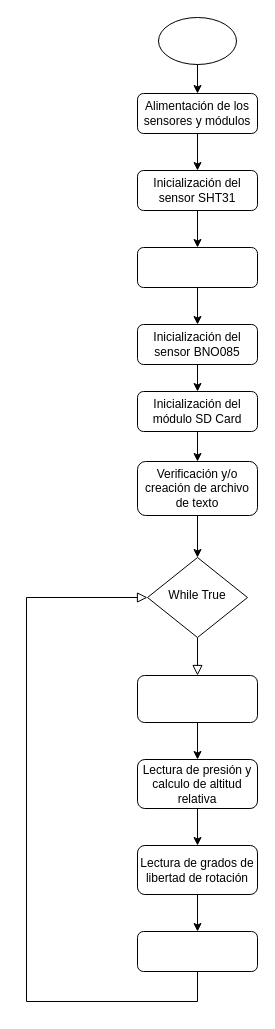
Image size: 275x1029. Some labels were removed from this diagram. The box of each missing label's shape, as (x1, y1, x2, y2) in pixels:
Inicialización del sensor MPL3115A2: (136, 246, 258, 288)
INICIO: (158, 16, 236, 64)
Lectura de temperatura y humedad: (136, 674, 258, 722)
Transmisión de datos actuales: (136, 930, 258, 972)
